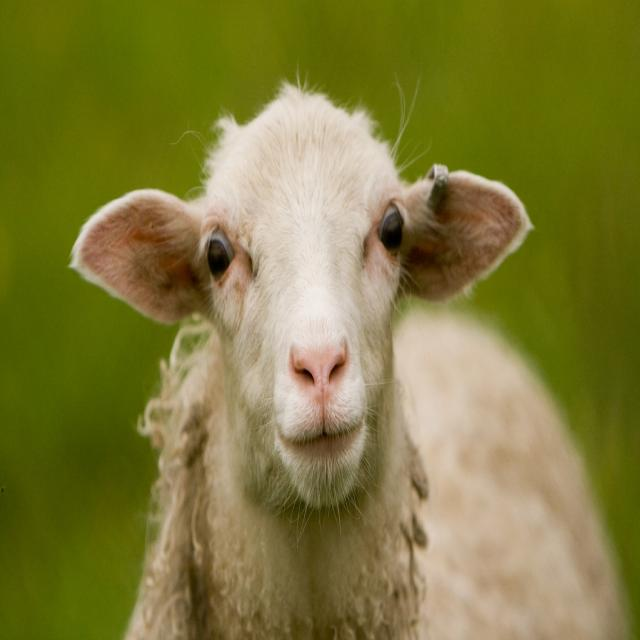Sheep: (67, 62, 629, 640)
